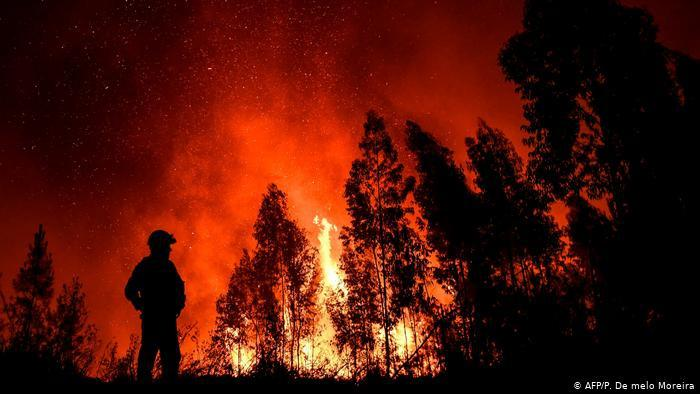victim: (120, 227, 186, 384)
